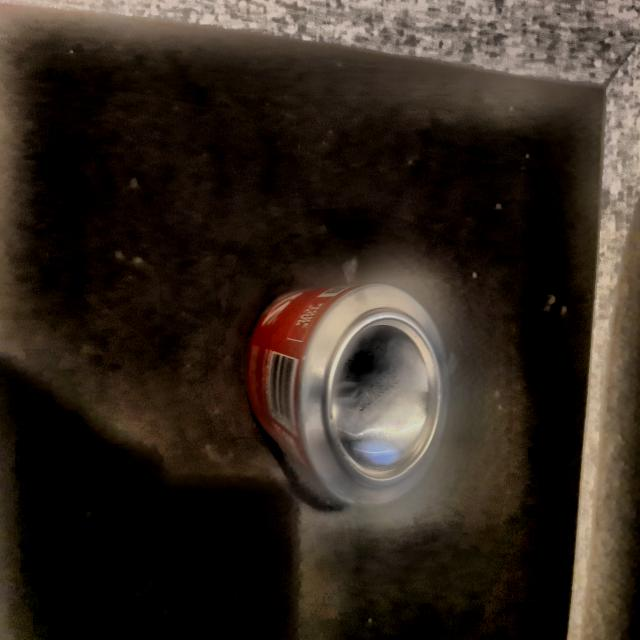coke-can: (251, 279, 469, 502)
